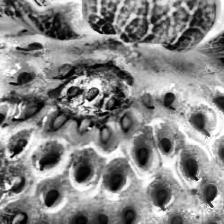Anthracnose Fruit Rot: (29, 47, 158, 144)
